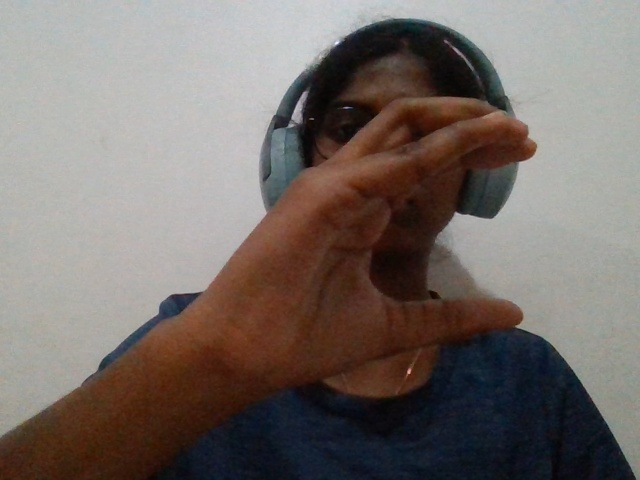C: (153, 51, 537, 407)
